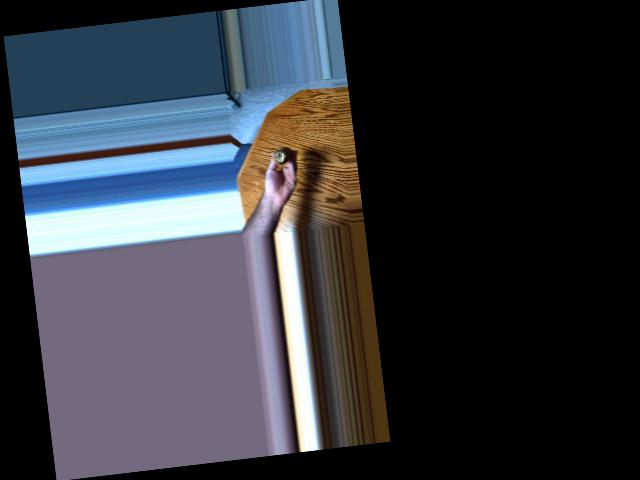sweet_potato: (270, 143, 288, 164)
